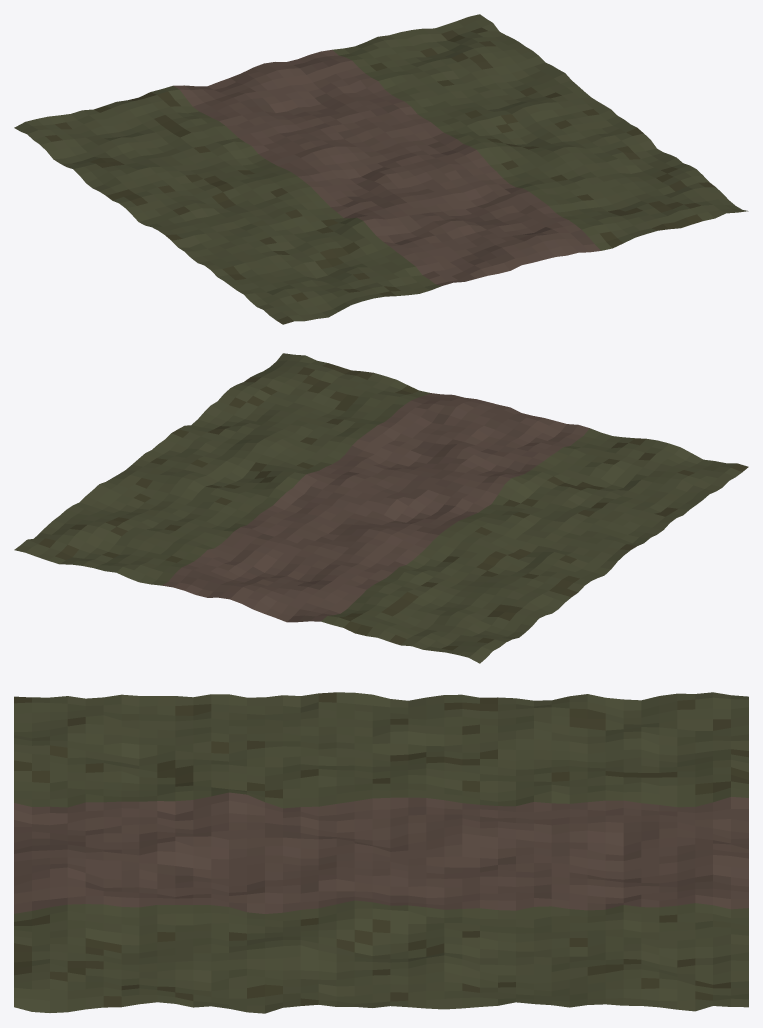
Rendered from justplane.fbx.
3 views of the same model, one above another, from view 1: azimuth 30°, elevation 25°; view 2: azimuth 150°, elevation 25°; view 3: azimuth 270°, elevation 25° (orthographic). The views are drawn at different scales.
Parts seen in each view (by area): view 1: Plane; view 2: Plane; view 3: Plane.
Boxes of the visible parts, bbox=[...] form: Plane: bbox=[14, 14, 748, 324]; Plane: bbox=[14, 353, 748, 663]; Plane: bbox=[14, 692, 748, 1013].
Size of the model in its own units: 2000 by 61.4 by 2000.
